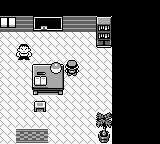leer: (33, 71, 47, 86)
main: (65, 60, 79, 76)
no-caminable: (0, 16, 96, 32), (32, 64, 64, 95), (96, 112, 112, 143), (96, 17, 111, 47)
npc: (16, 44, 32, 60)
poke-ball: (50, 62, 62, 73)
puerta: (12, 128, 52, 143)
